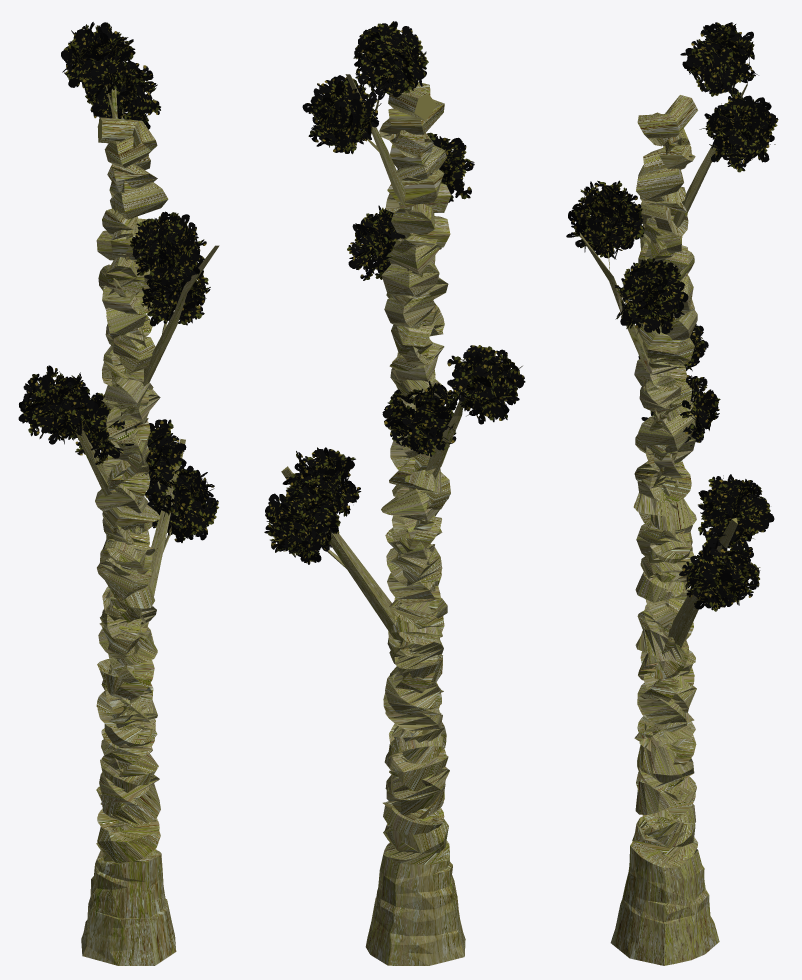
Rendered from deadwood_snag_v01_LOD1.fbx.
The picture shows the model from 3 angles, left to right: view 1: azimuth 30°, elevation 25°; view 2: azimuth 150°, elevation 25°; view 3: azimuth 270°, elevation 25°; orthographic projection. The views are drawn at different scales.
Parts seen in each view (by area): view 1: deadwood_snag_v01_LOD1; view 2: deadwood_snag_v01_LOD1; view 3: deadwood_snag_v01_LOD1.
Boxes of the visible parts, x1,y1,x2,y2 form: deadwood_snag_v01_LOD1: [18, 22, 219, 965]; deadwood_snag_v01_LOD1: [264, 21, 525, 965]; deadwood_snag_v01_LOD1: [566, 22, 778, 965].
Size of the model in its own units: 406 by 349 by 1570.
Materials: 2 (2 with a texture image).
